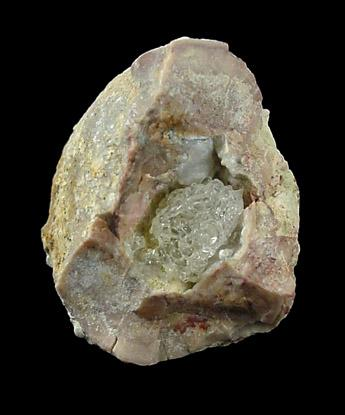opal: (150, 179, 244, 283)
